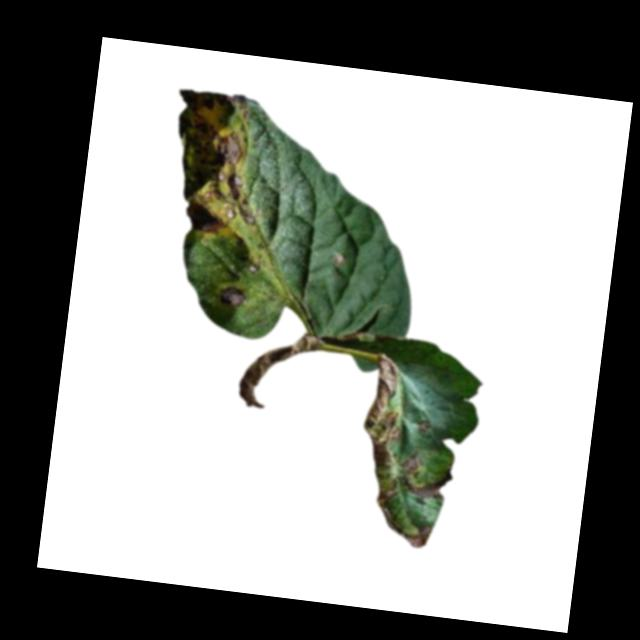Early_blight: (163, 86, 274, 238), (352, 352, 414, 510), (222, 323, 326, 415), (398, 452, 450, 500), (398, 519, 434, 549), (218, 283, 246, 307), (415, 419, 428, 432)
